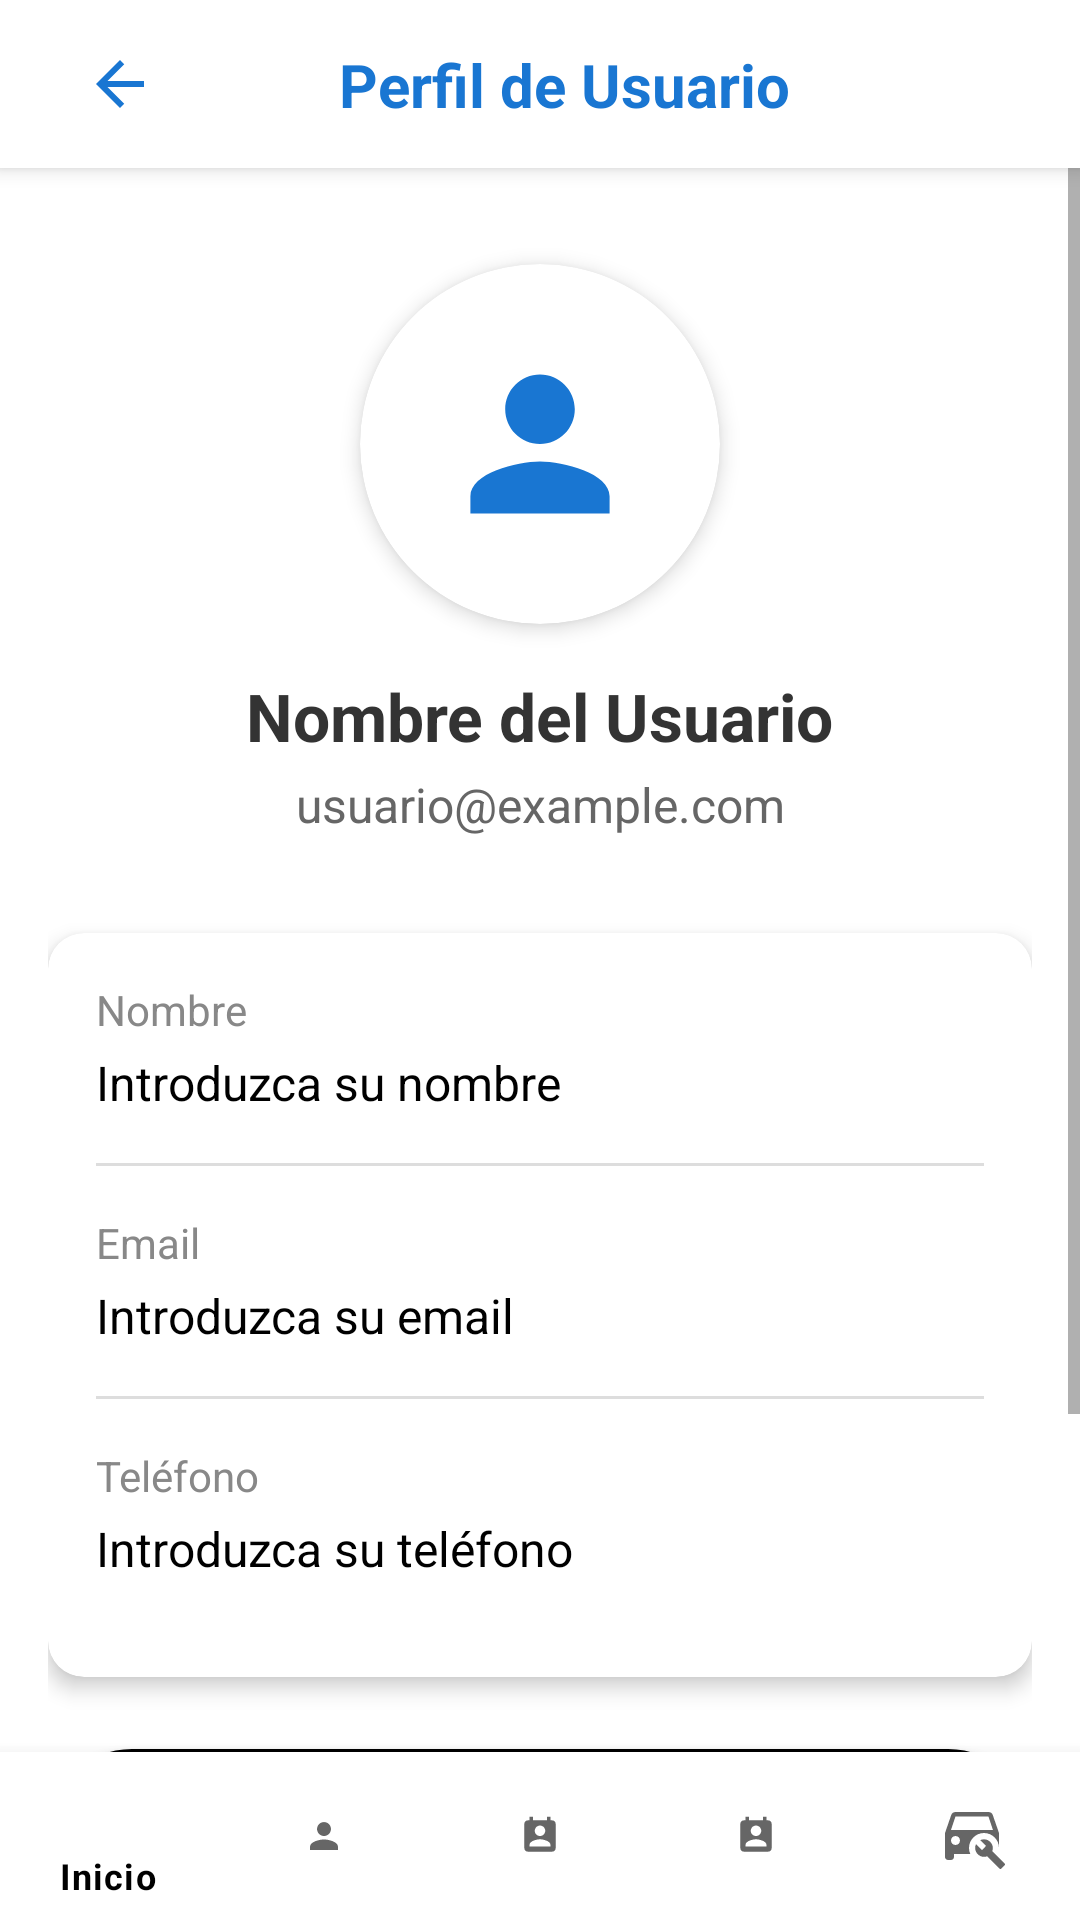

Named icons in this screenshot (1080px x 1920px) and their bounding boxes, detection(x1, y1, x2, y2):
Volver: detection(96, 60, 144, 108)
